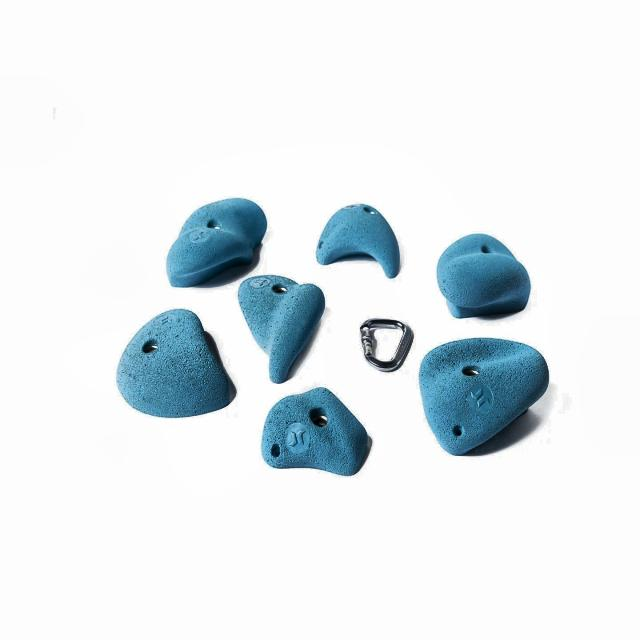Hold: (412, 333, 556, 459), (119, 303, 233, 419), (436, 220, 538, 332), (161, 190, 270, 290), (264, 384, 370, 484), (240, 273, 330, 379), (320, 199, 403, 283)
